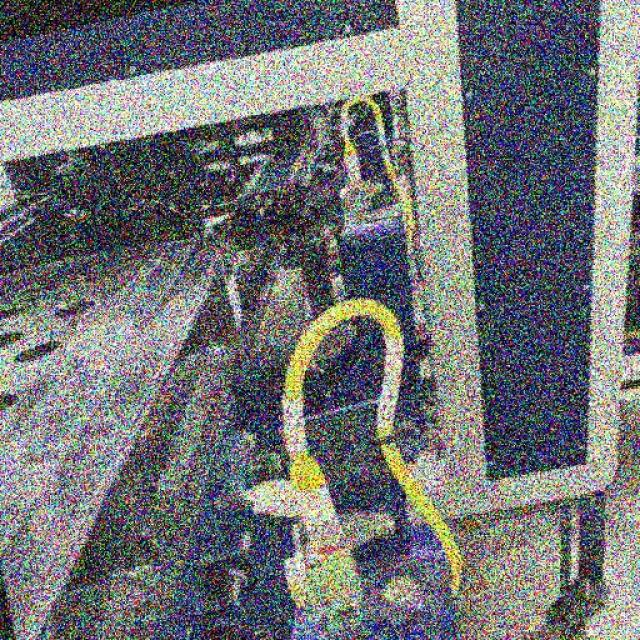igps: (0, 215, 280, 640)
